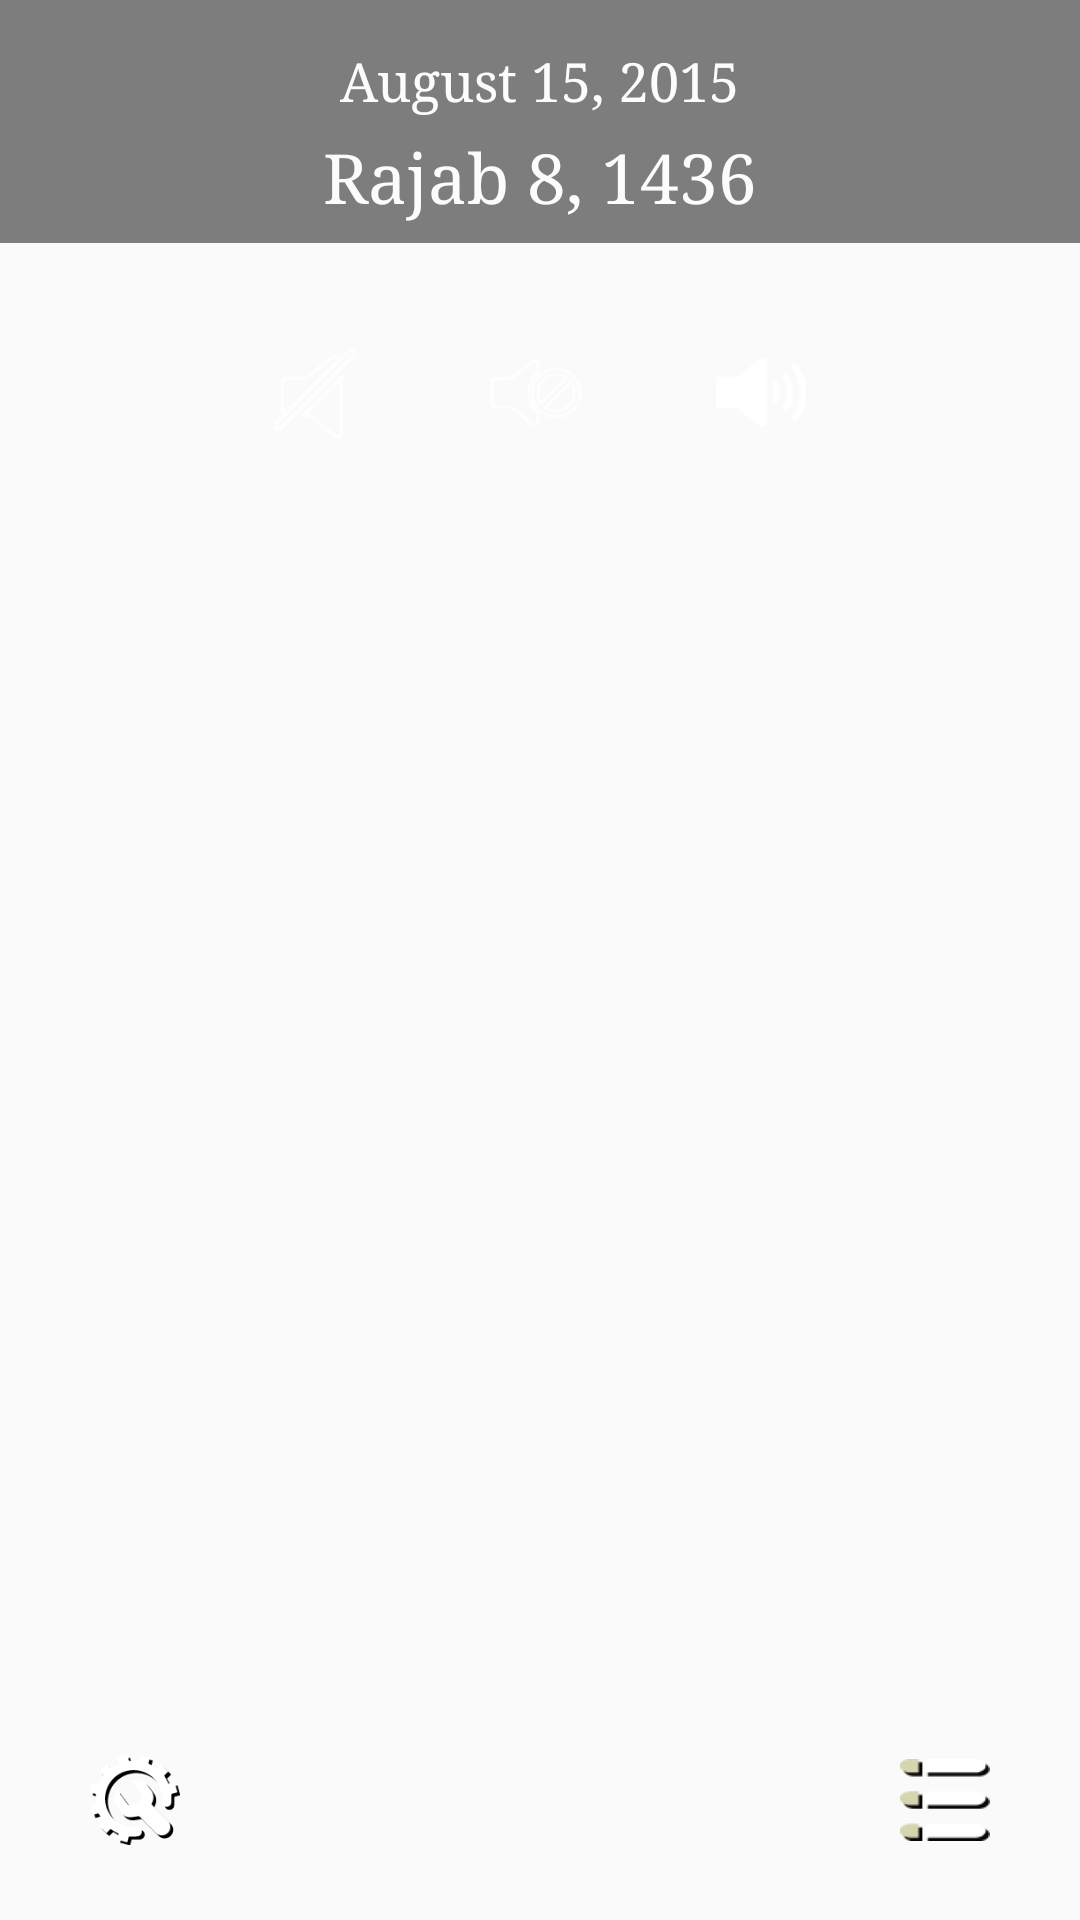

Where to tap for icons on this 1080 × 1920 app screen, as [x,y]:
menu: [945,1800]
setting: [136,1801]
